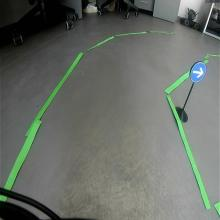right: (189, 61, 207, 83)
